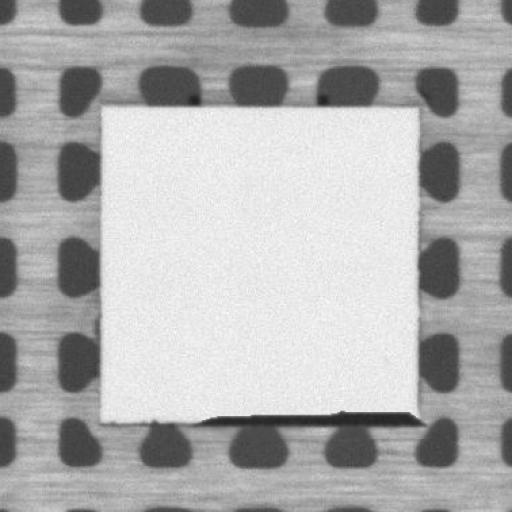DIE_BROKEN: (194, 408, 425, 427)
